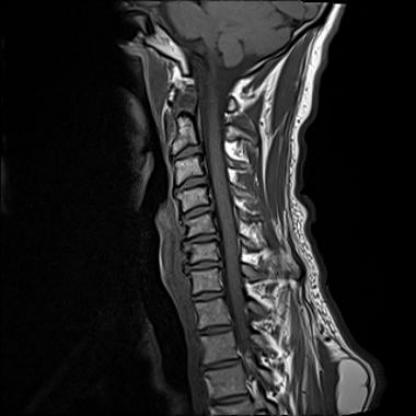Disc Bulgerotation: (170, 175, 212, 192), (184, 258, 225, 275), (169, 143, 204, 162), (181, 232, 221, 248), (179, 204, 217, 220)
Disc Protrusionrotation: (183, 258, 225, 275), (168, 143, 204, 162), (181, 232, 222, 248), (180, 204, 218, 220)
